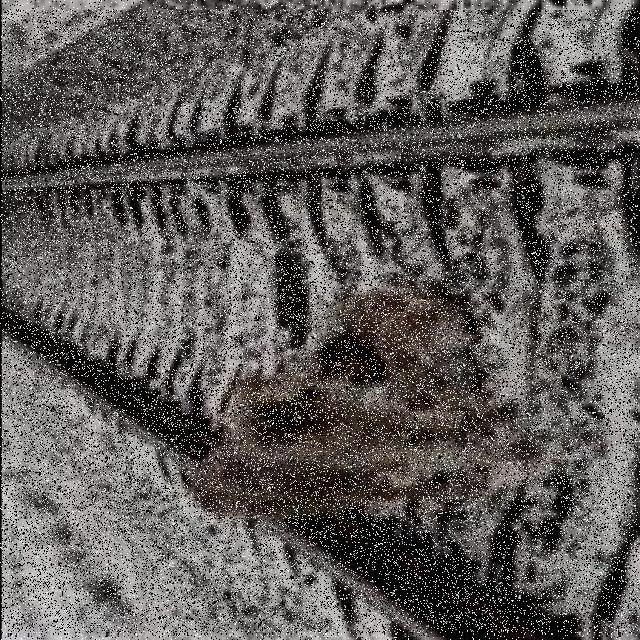rail: (2, 11, 639, 635)
